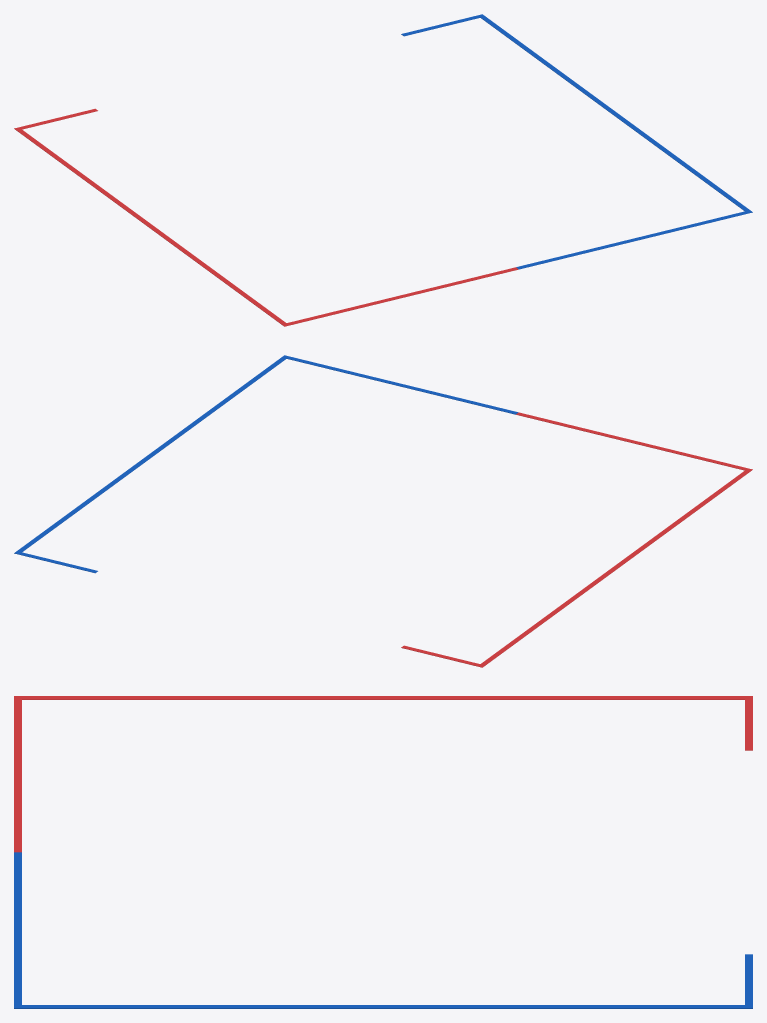
The picture shows the model from 3 angles, top to bottom: view 1: azimuth 30°, elevation 25°; view 2: azimuth 150°, elevation 25°; view 3: azimuth 270°, elevation 25°; orthographic projection. The views are drawn at different scales.
Bounding box in the file's own units: 93.44 × 0.05 × 93.44.
2 materials, 2 textured.
